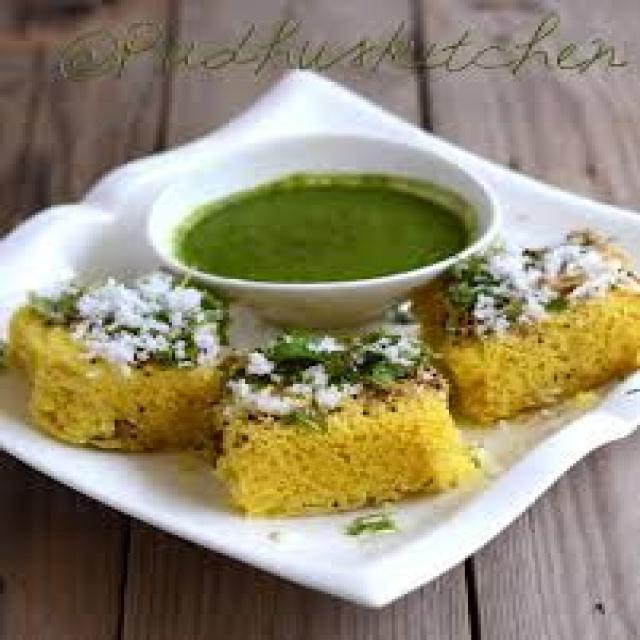DHOKLA: (7, 216, 637, 506)
